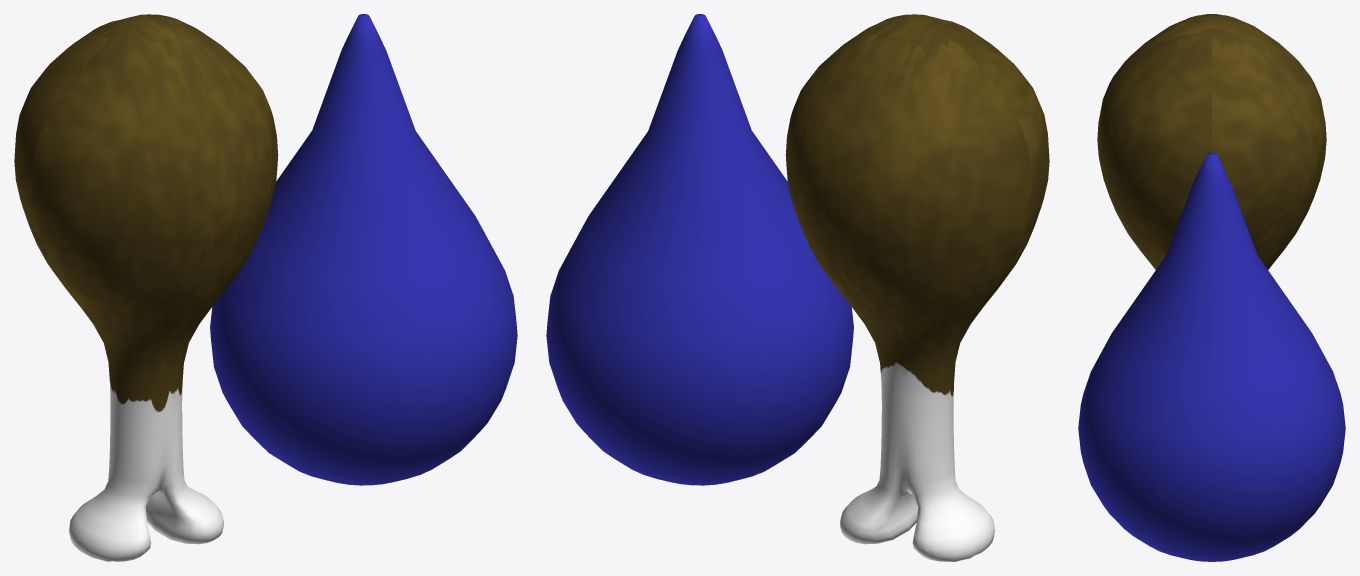
File: Icon_food.FBX
3 renders of one model, left to right at view 1: azimuth 30°, elevation 25°; view 2: azimuth 150°, elevation 25°; view 3: azimuth 270°, elevation 25°, orthographic. The views are drawn at different scales.
Visible parts, largest first — view 1: water, chicken leg; view 2: water, chicken leg; view 3: water, chicken leg.
Boxes of the visible parts, <box> form: water: <box>210,14,517,485</box>; chicken leg: <box>14,14,278,561</box>; water: <box>546,14,853,485</box>; chicken leg: <box>785,14,1049,561</box>; water: <box>1078,152,1345,561</box>; chicken leg: <box>1097,14,1326,269</box>.
Bounding box in the file's own units: 383 × 406 × 220.
2 materials, 1 textured.
